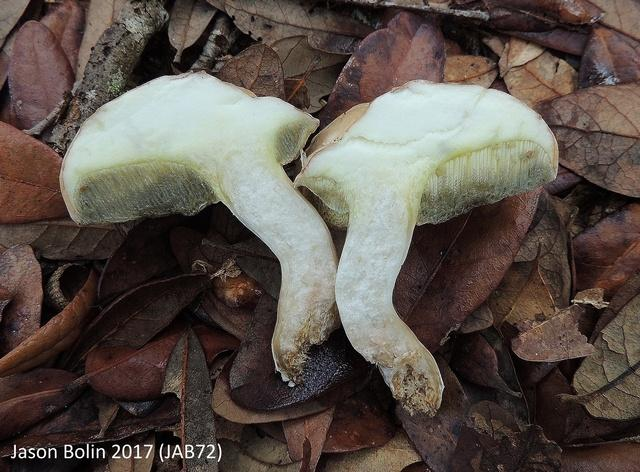Edible Mushroom: (291, 77, 560, 417), (57, 68, 340, 387)
